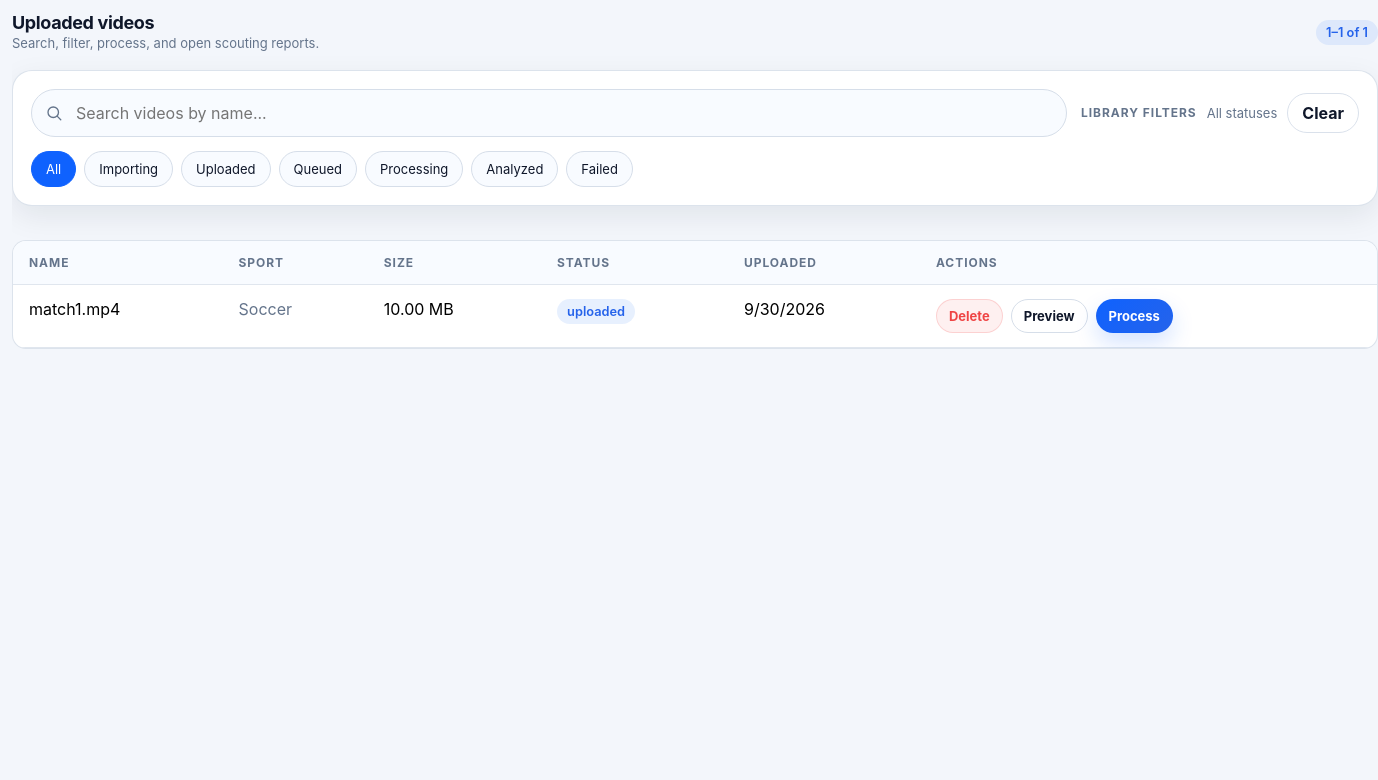
Test: VideoList real-time analysis updates › refreshes and clears progress on analysis:complete
This screenshot has width=1378, height=780.
Expected: the text "match1.mp4" is shown, x1=13 y1=284 x2=222 y2=348
Click the button "Process": (1134,316) x1=1096 y1=299 x2=1173 y2=333
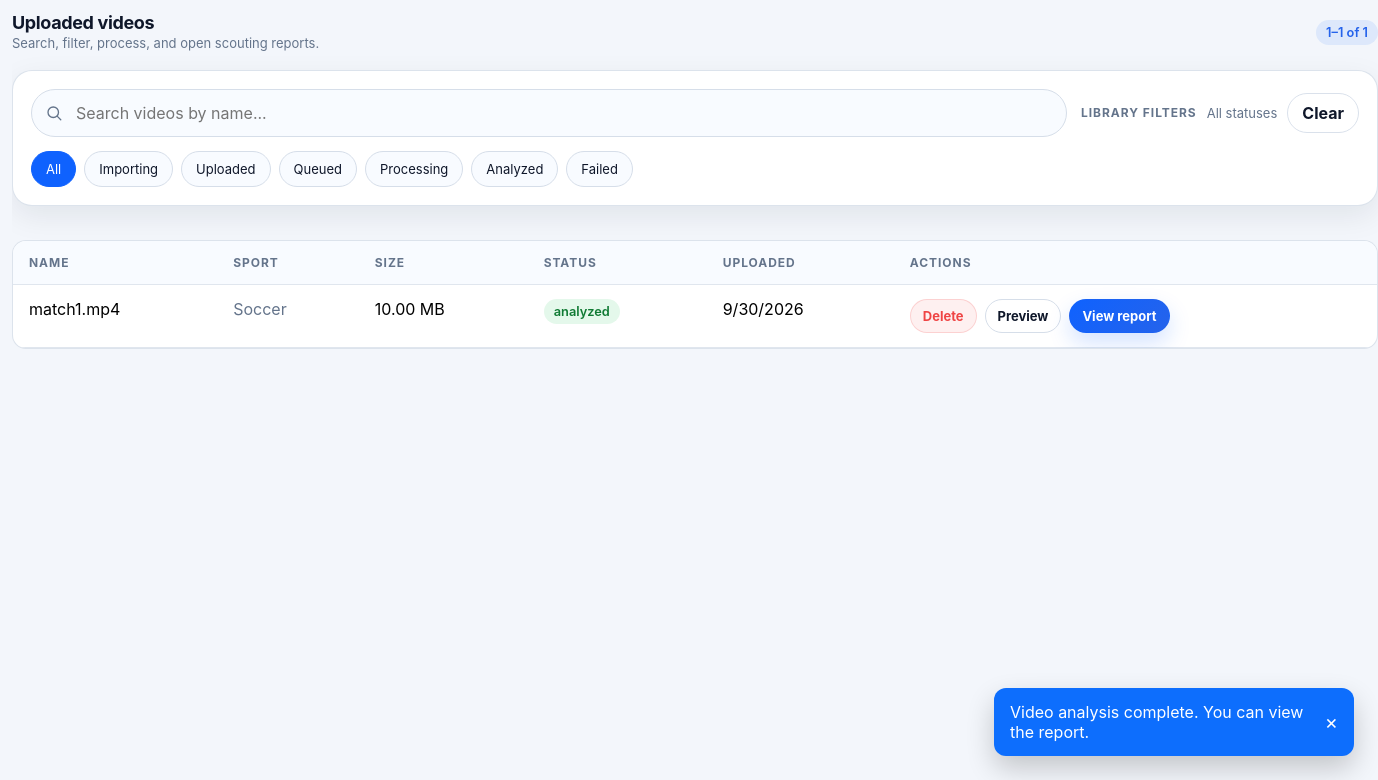
Expected: the text "analyzed" is shown, x1=544 y1=299 x2=620 y2=324
Expected: the text "Video analysis complete. You can view the report." is shown, x1=1010 y1=702 x2=1313 y2=742
